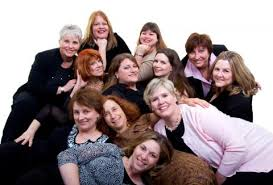person: (113, 122, 179, 177), (201, 45, 250, 117), (138, 77, 200, 133), (58, 86, 106, 137), (145, 46, 185, 91), (112, 48, 141, 103), (49, 21, 83, 62)
